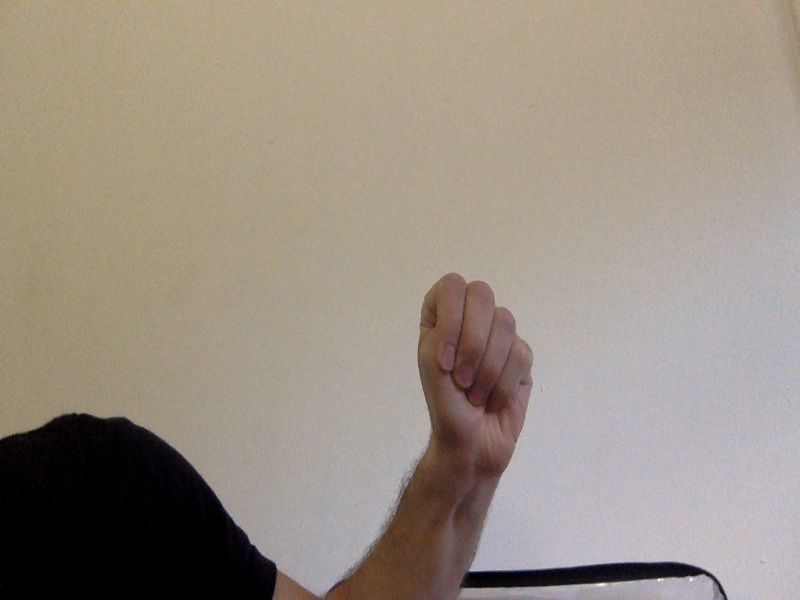0-hand: (420, 276, 537, 465)
